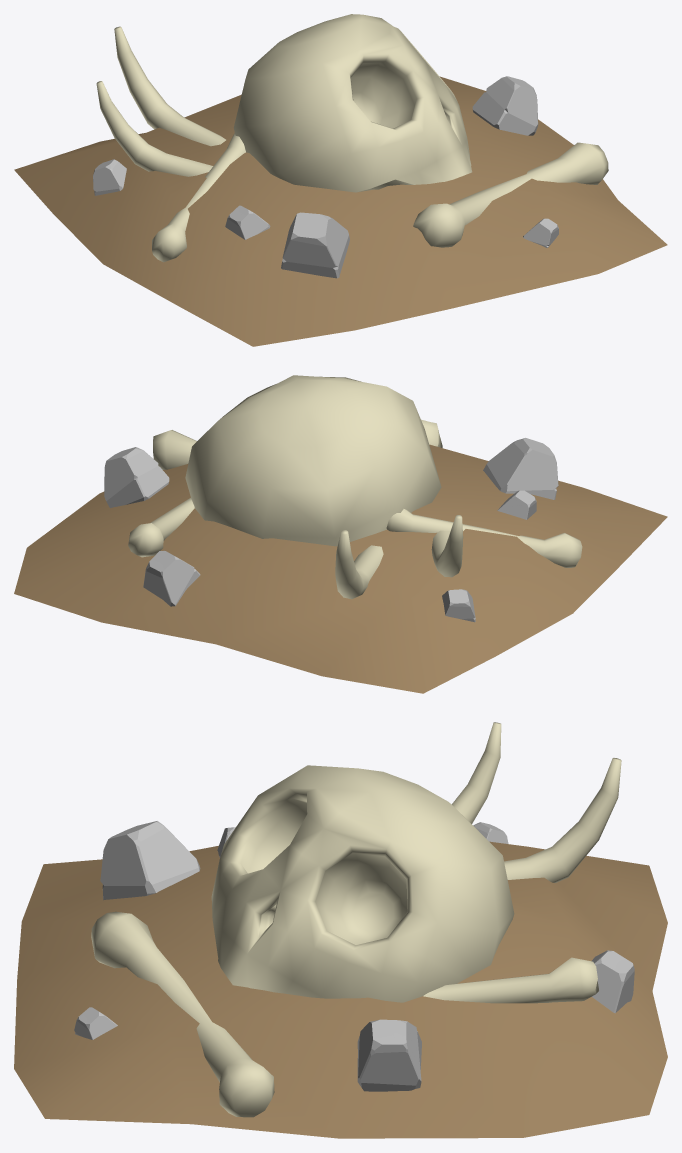
Rendered from BonesBox_7.fbx.
The picture shows the model from 3 angles, top to bottom: view 1: azimuth 30°, elevation 25°; view 2: azimuth 150°, elevation 25°; view 3: azimuth 270°, elevation 25°; orthographic projection. The views are drawn at different scales.
Parts seen in each view (by area): view 1: bones.006; view 2: bones.006; view 3: bones.006.
Boxes of the visible parts, x1,y1,x2,y2 form: bones.006: (14, 14, 667, 346); bones.006: (14, 375, 667, 693); bones.006: (14, 722, 667, 1138).
Bounding box in the file's own units: 428 × 150 × 406.
